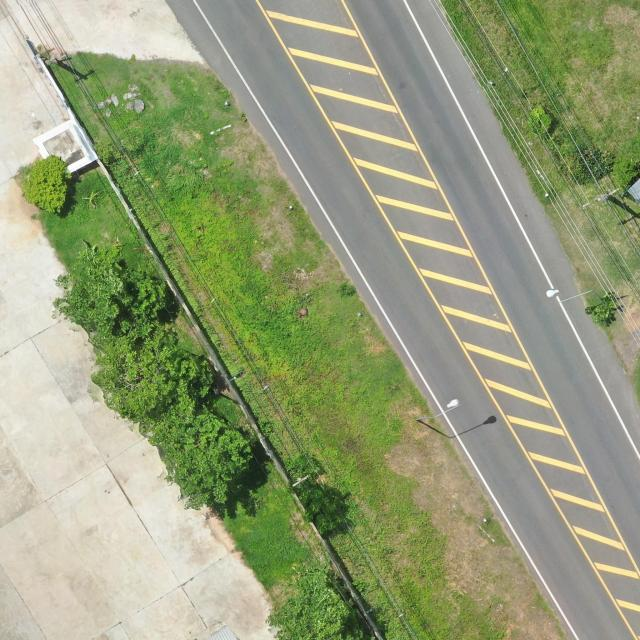Tree: (52, 240, 174, 334), (150, 411, 252, 513), (106, 335, 219, 422), (264, 564, 363, 640), (287, 482, 353, 537), (21, 155, 74, 214), (561, 144, 615, 184), (592, 292, 623, 322), (527, 106, 555, 137)
